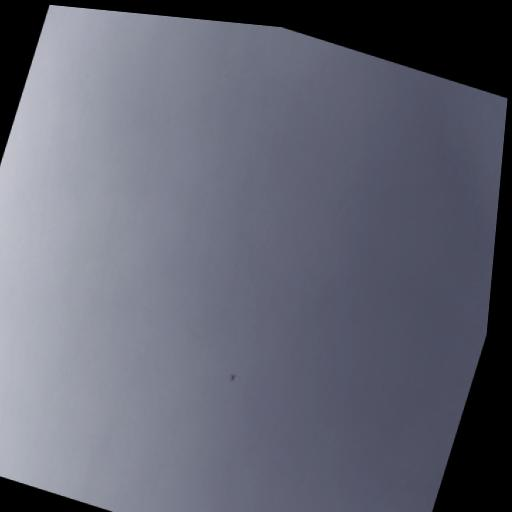drones: (228, 371, 237, 383)
